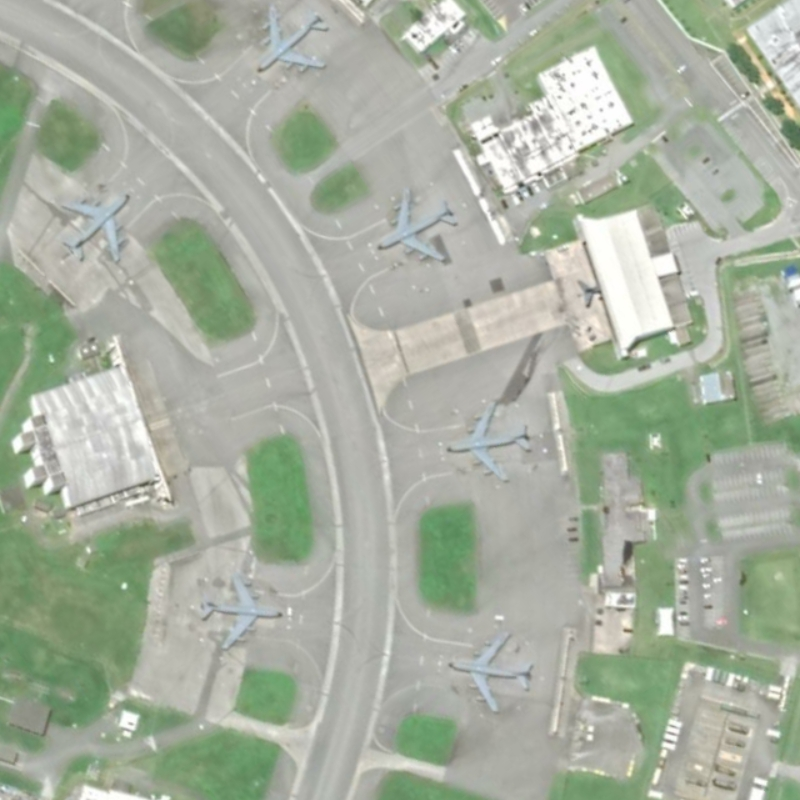A14: (443, 398, 535, 486), (445, 629, 538, 716), (195, 569, 286, 652), (373, 184, 460, 267), (57, 188, 135, 267), (256, 1, 332, 74)
